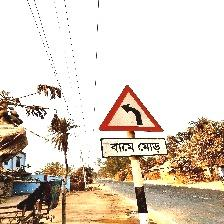Left-Turn: (97, 85, 167, 159)
